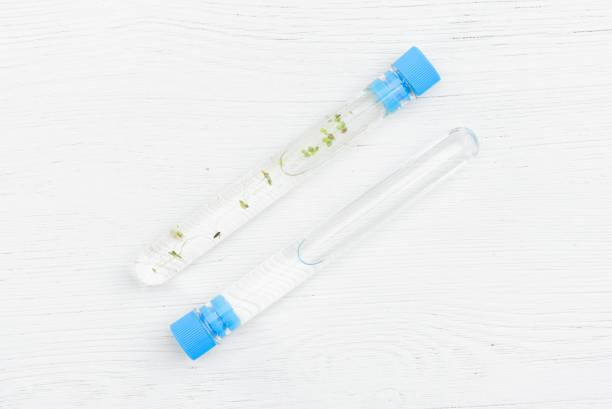Test tube: (62, 26, 504, 379)
